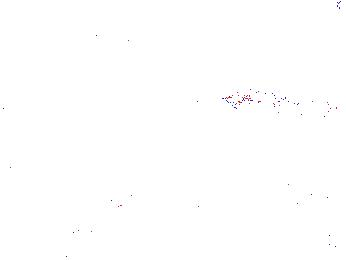glassfish: (65, 188, 135, 248), (220, 89, 306, 119)
red belly glassfish: (309, 103, 343, 123)
